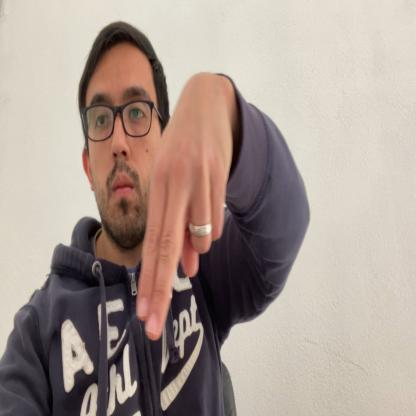N: (136, 83, 236, 341)
